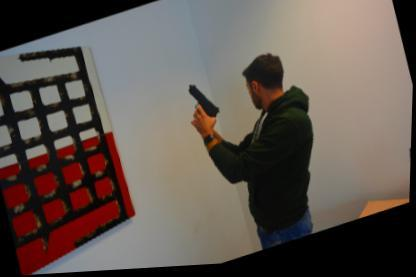pistol: (186, 78, 221, 125)
